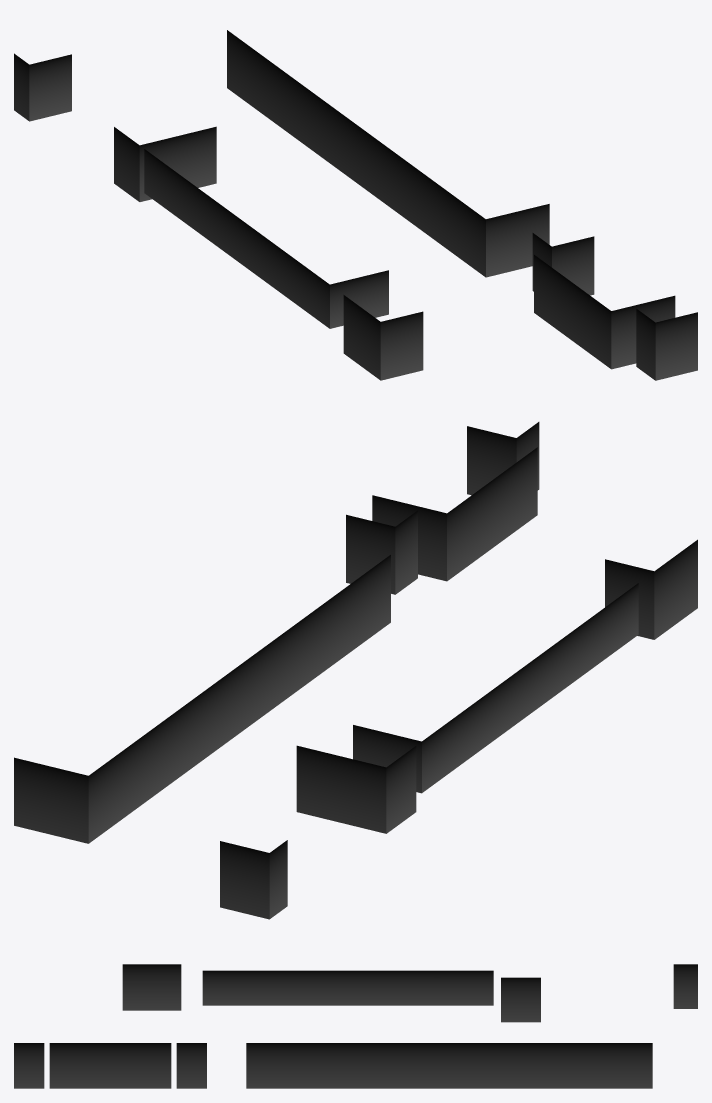
The model's file is 2100_YUKASHITA00.glb.
3 renders of one model, top to bottom at view 1: azimuth 30°, elevation 25°; view 2: azimuth 150°, elevation 25°; view 3: azimuth 270°, elevation 25°, orthographic. The views are drawn at different scales.
Parts seen in each view (by area): view 1: Sita1; view 2: Sita1; view 3: Sita1.
Part boxes in pixels (bbox=[...]): Sita1: bbox=[14, 30, 697, 380]; Sita1: bbox=[14, 422, 697, 919]; Sita1: bbox=[14, 964, 697, 1088].
Bounding box in the file's own units: 5.84 × 1.33 × 17.8.
1 material, 1 textured.
